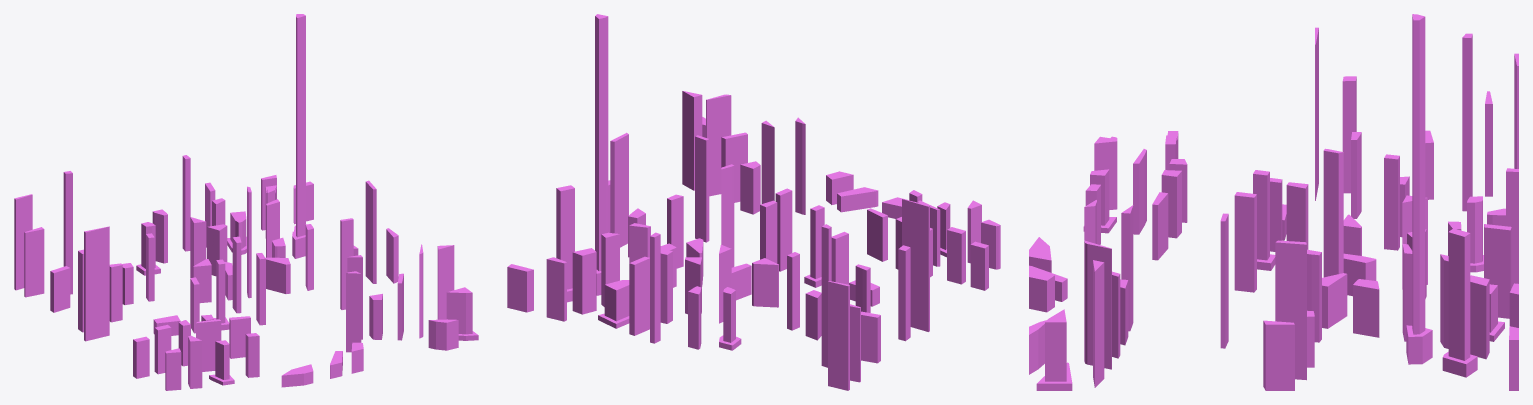
The model's file is buildings_00056.obj.
3 renders of one model, left to right at view 1: azimuth 30°, elevation 25°; view 2: azimuth 150°, elevation 25°; view 3: azimuth 270°, elevation 25°, orthographic. The views are drawn at different scales.
Bounding box in the file's own units: 1460 × 1123 × 1460.
